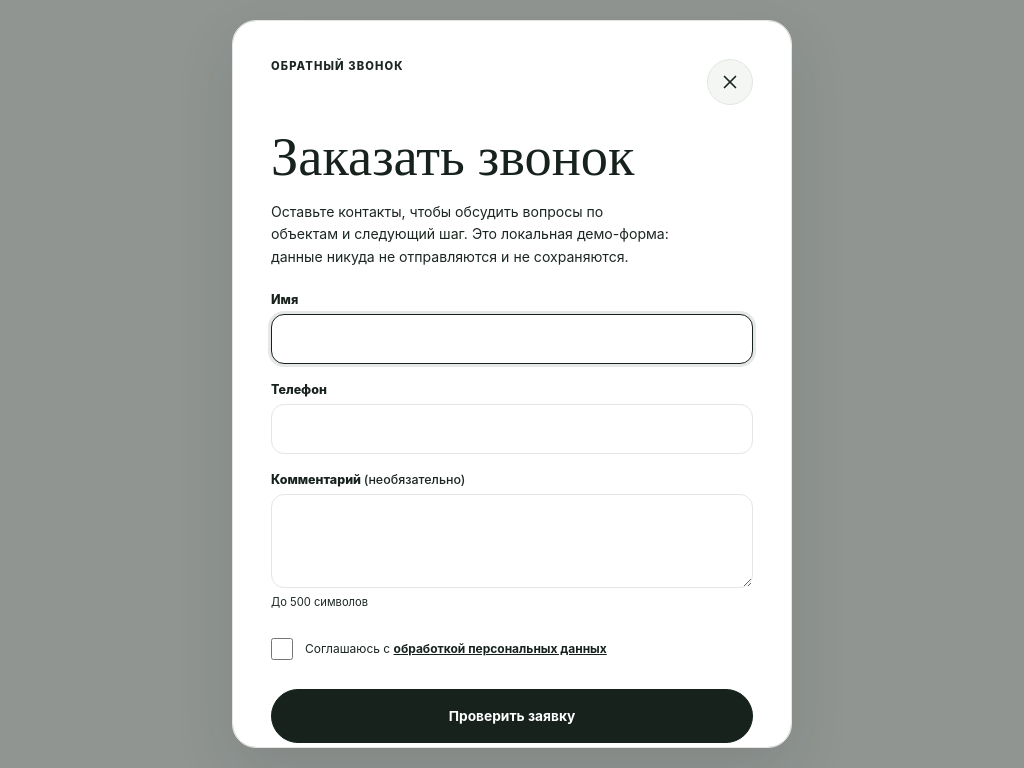
Test: LeadDialog › focuses the first invalid field and describes its error
This screenshot has width=1024, height=768.
Click the button "Проверить заявку". click: (512, 716)
box: top-left (271, 689), bottom-right (753, 743)
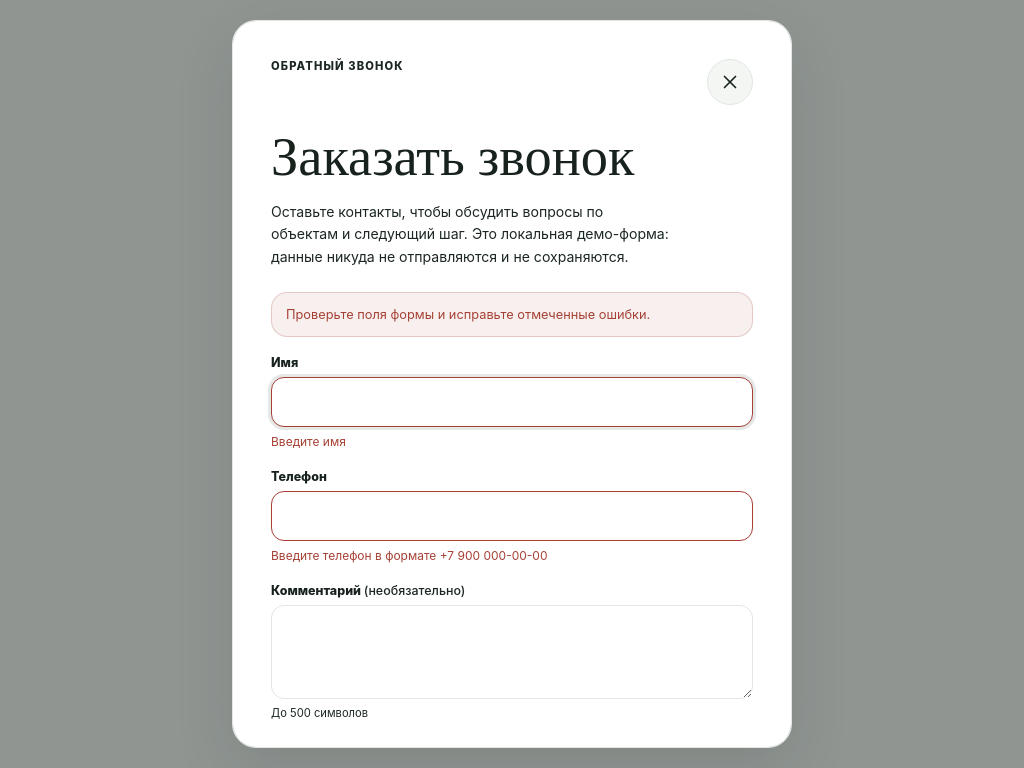
Check: the message "Проверьте поля формы и исправьте отмеченные ошибки." is shown, box top-left (271, 292), bottom-right (753, 337)
